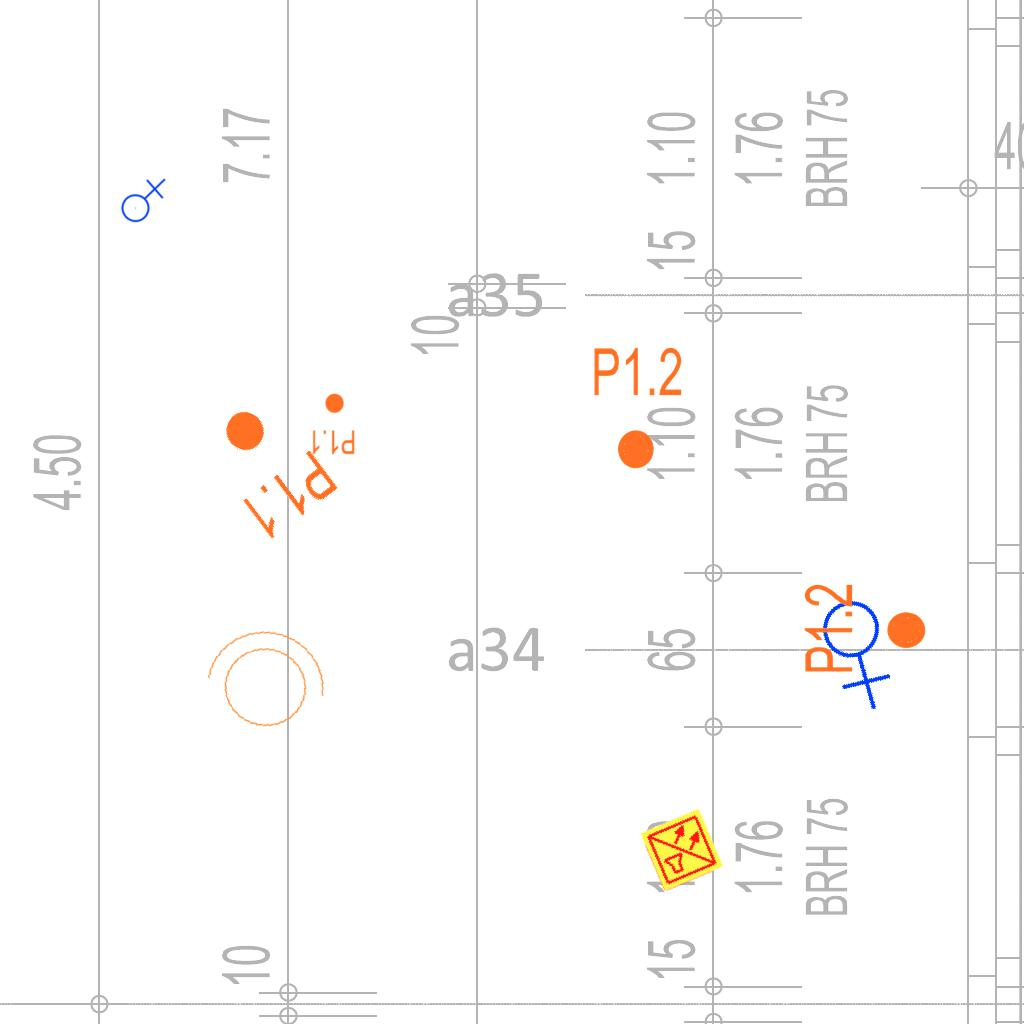Downlight_LED_Einbauleuchten_Flur: (191, 386, 344, 546), (591, 344, 684, 472), (801, 582, 929, 675), (310, 392, 356, 456)
Elektroanschluss_allgemein_230V_Geraeteanschlussdose_230V: (795, 582, 926, 714), (117, 176, 166, 223)
OKW_Multisensormelder_(Kombination_optischer_Rauch-Kahlenmonoxid_Waerme-Melder): (638, 806, 726, 894)
Scheinwerfer_fuer_Alarmbeleuchtung: (189, 616, 337, 748)
